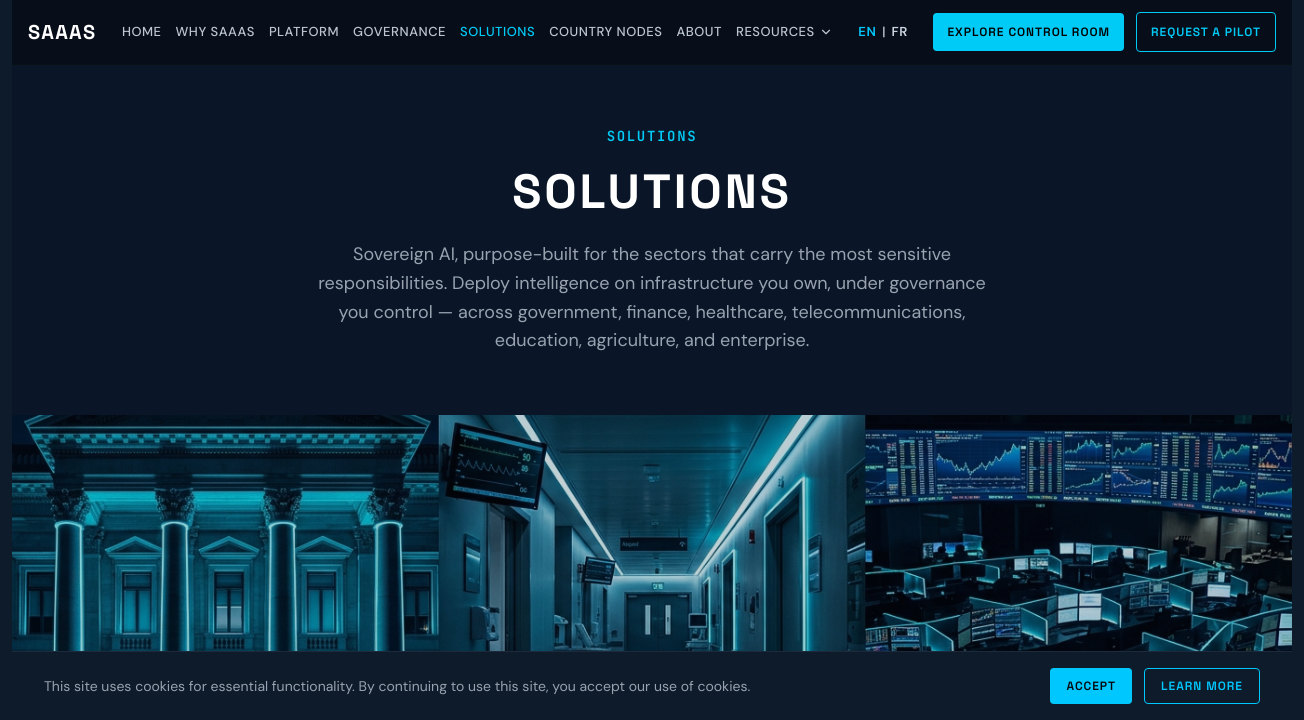
Test: Solutions page content contract › renders the closing CTA with its pilot and platform links
Click the link "SOLUTIONS". click: (498, 32)
box: [460,22,535,42]
(page scrolled)
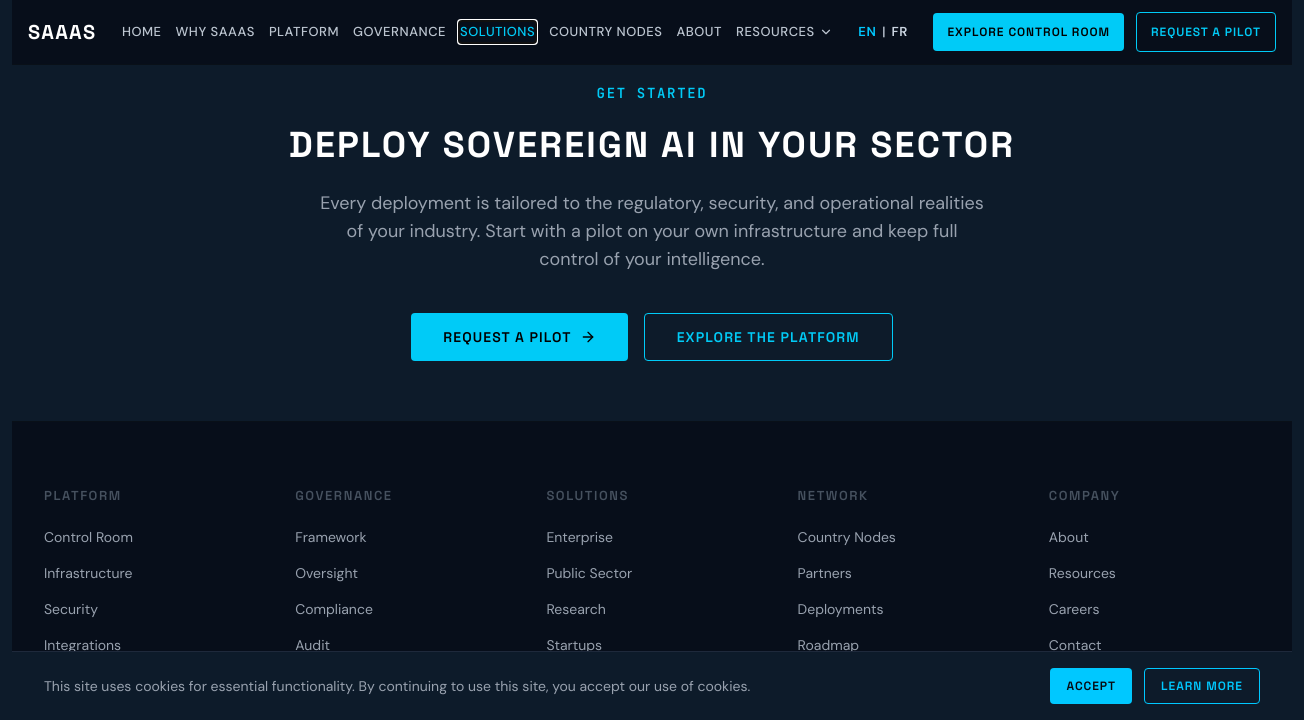
Result: the heading "Deploy Sovereign AI in Your Sector" is shown at [268,125,1036,165]
